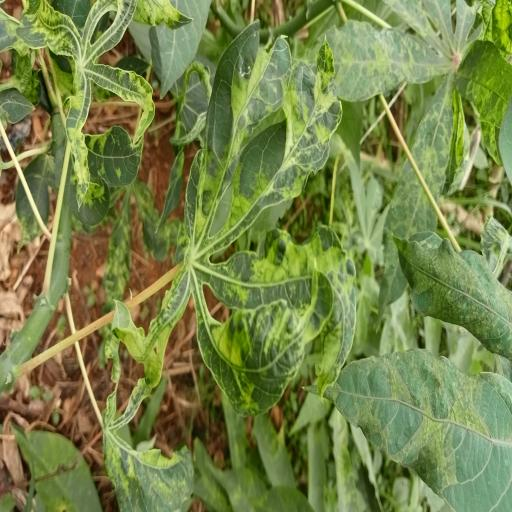Cassava_Mosaic: (113, 19, 357, 419), (315, 0, 512, 321), (11, 0, 153, 212)
